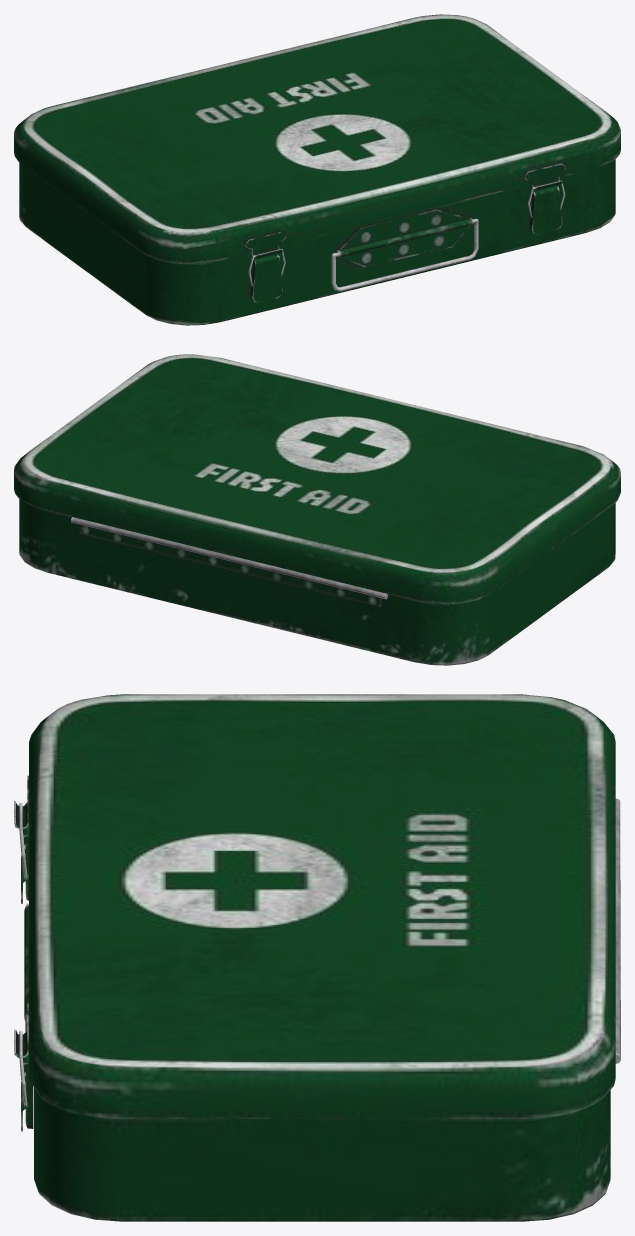
Rendered from medkit.glb.
3 renders of one model, top to bottom at view 1: azimuth 30°, elevation 25°; view 2: azimuth 150°, elevation 25°; view 3: azimuth 270°, elevation 25°, orthographic. The views are drawn at different scales.
Size of the model in its own units: 0.5255 by 0.0975 by 0.3502.
Materials: 1 (1 with a texture image).
